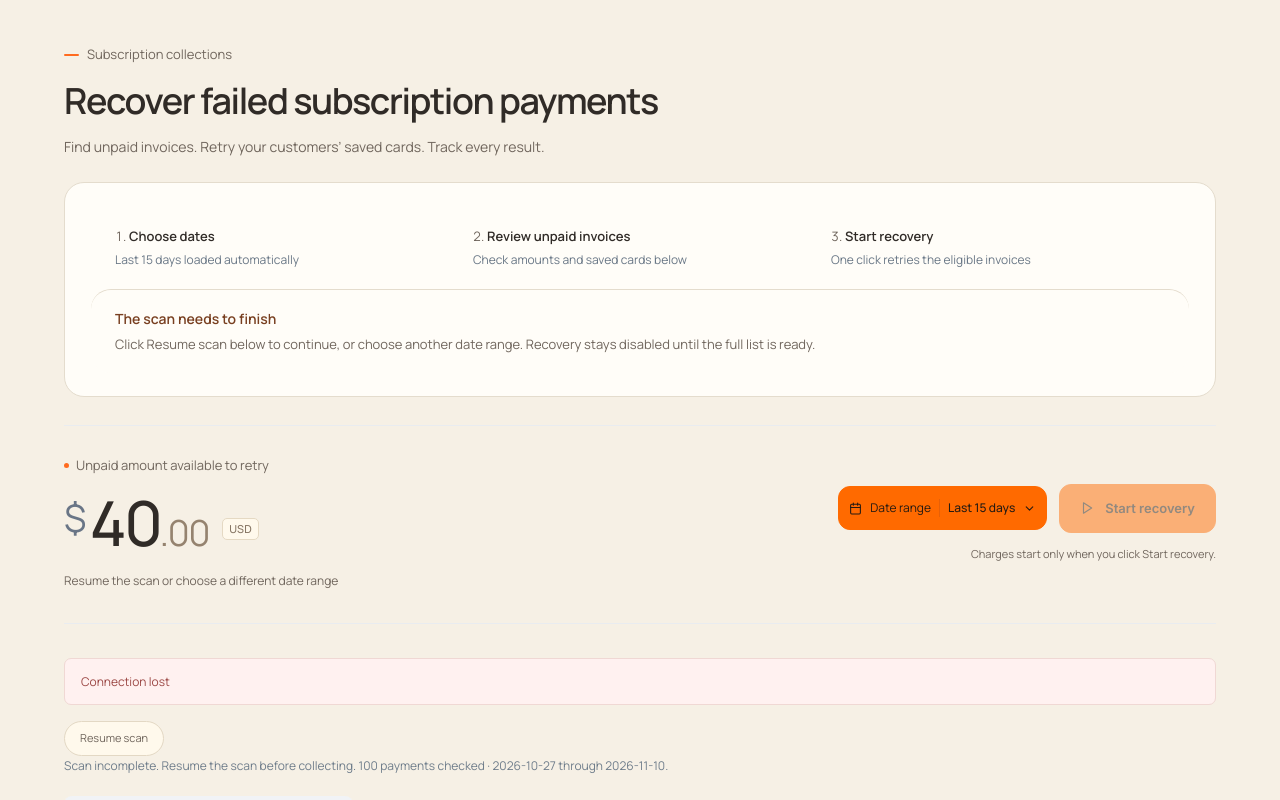
Test: an interrupted scan resumes at the failed page without losing rows or charging
Expected: the button with class "desk-run-button" is disabled, [1059, 484, 1216, 533]
Click the button "Resume scan" at (114, 739), box [64, 722, 164, 756]
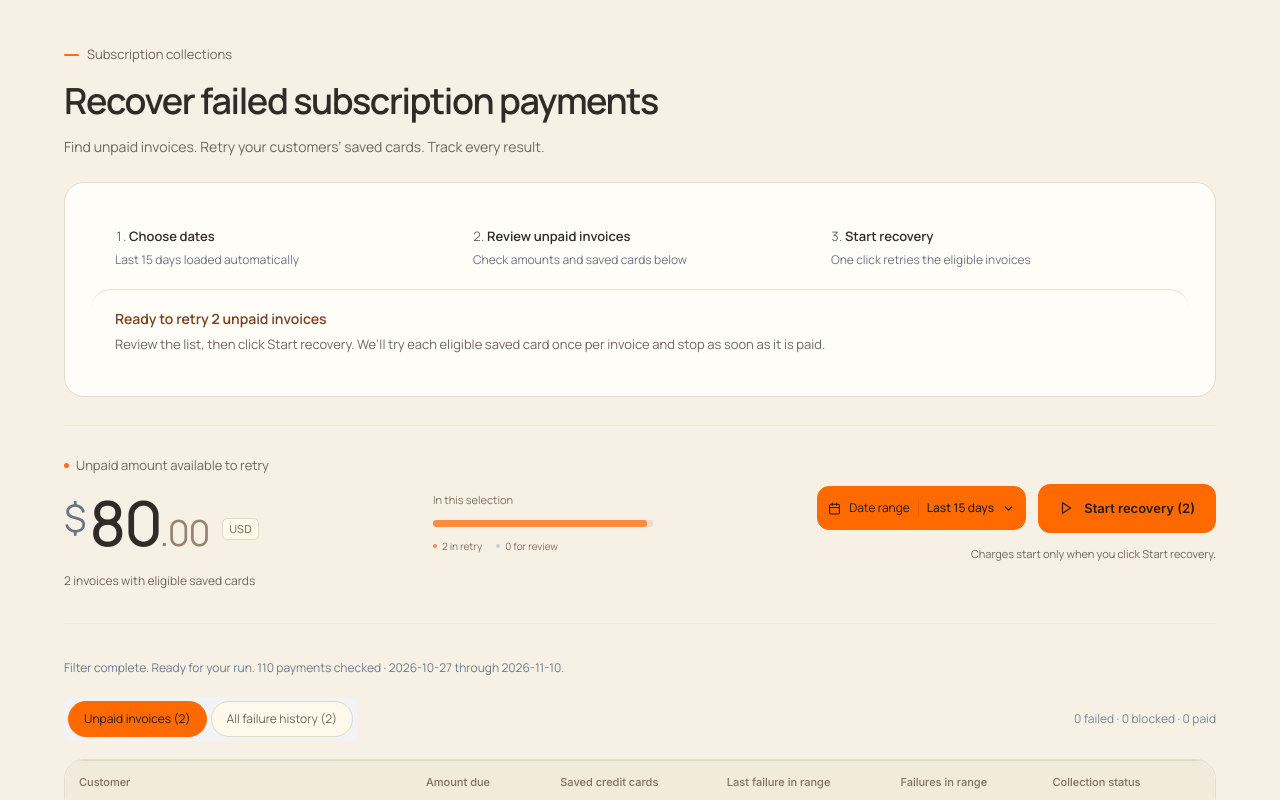
Result: the text "110 payments checked" is shown at [64, 659, 564, 676]
Result: the button "Start recovery (2)" is enabled at [1038, 484, 1216, 533]
